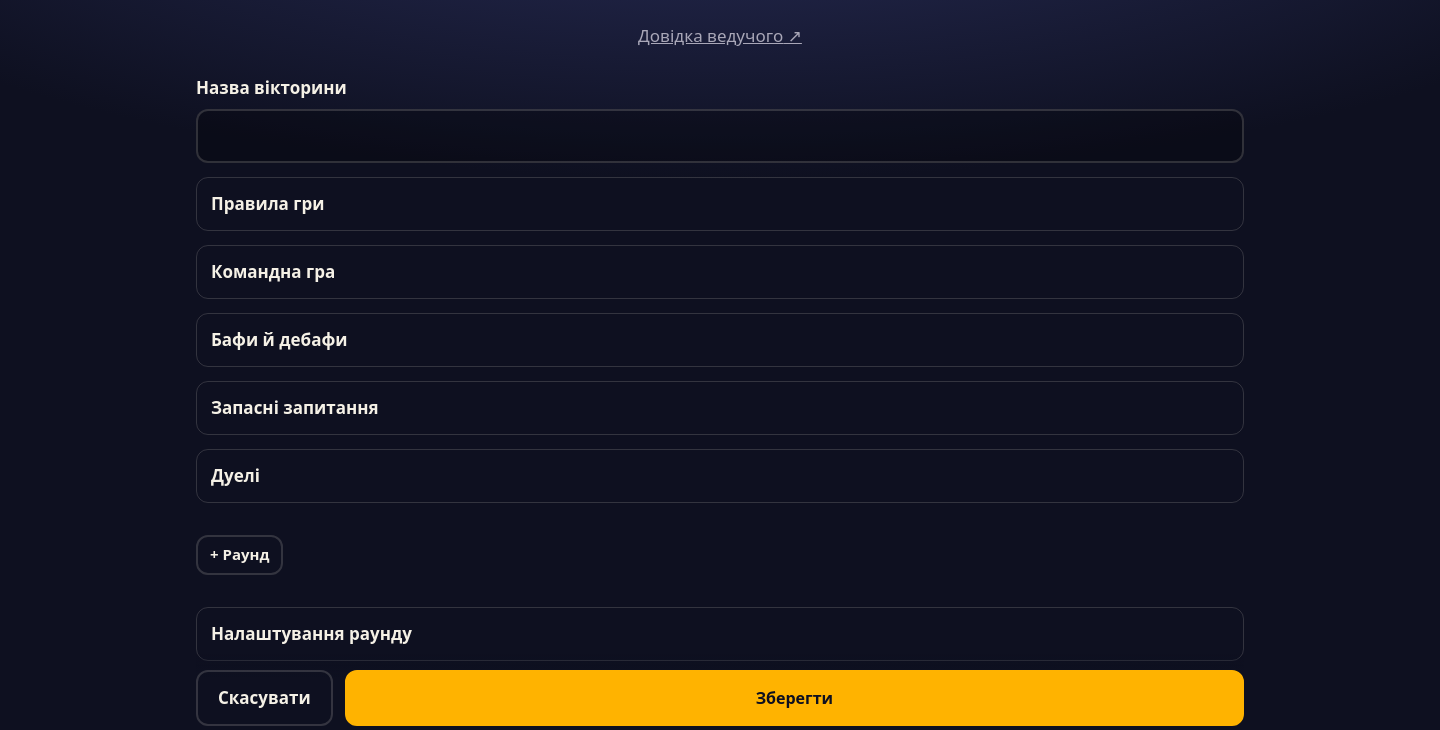
Test: QuizEditor › shows an error returned by the save
This screenshot has width=1440, height=730.
In the field labelled "Назва вікторини": (720, 136) [196,109,1244,163], type "Географія"
(page scrolled)
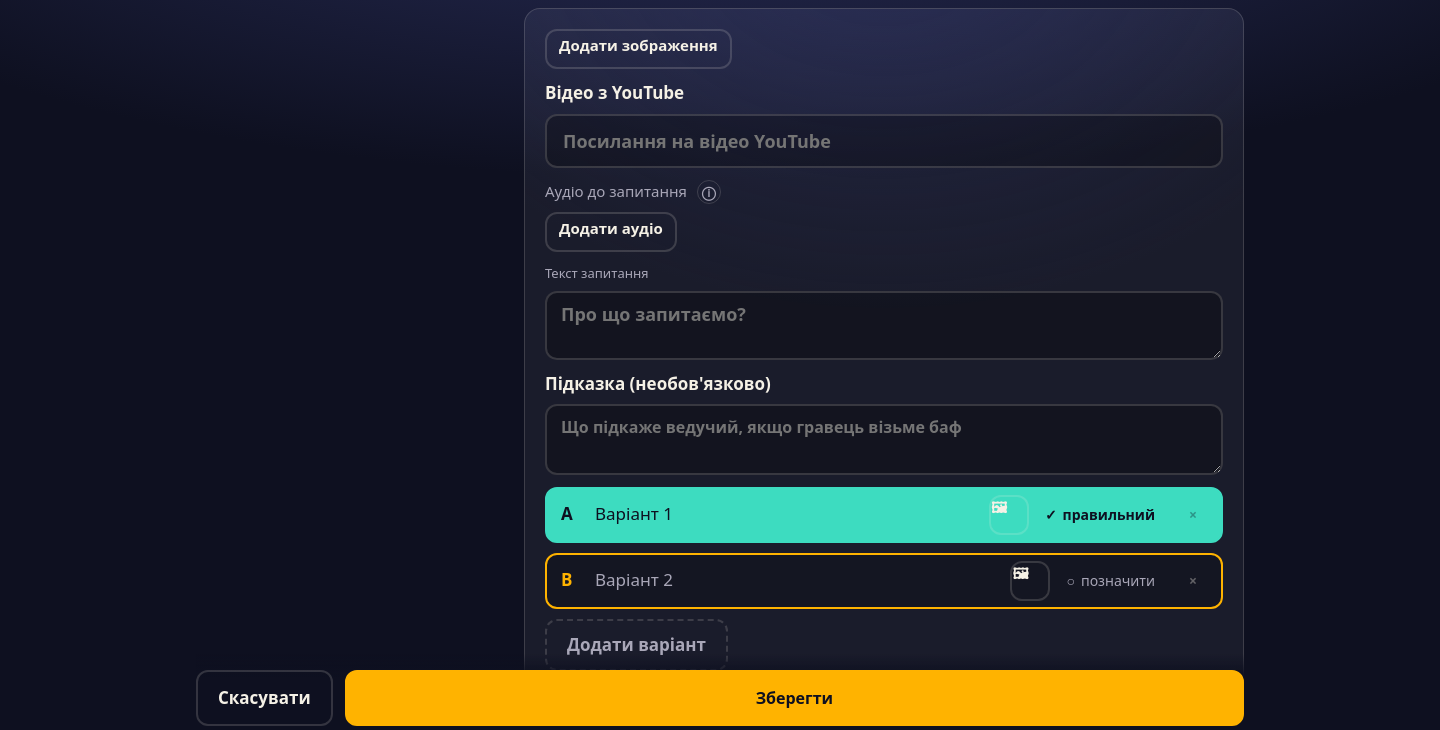
In the text box labelled "Текст запитання": (884, 325) [545,291,1223,360], type "Говерла найвища?"
(page scrolled)
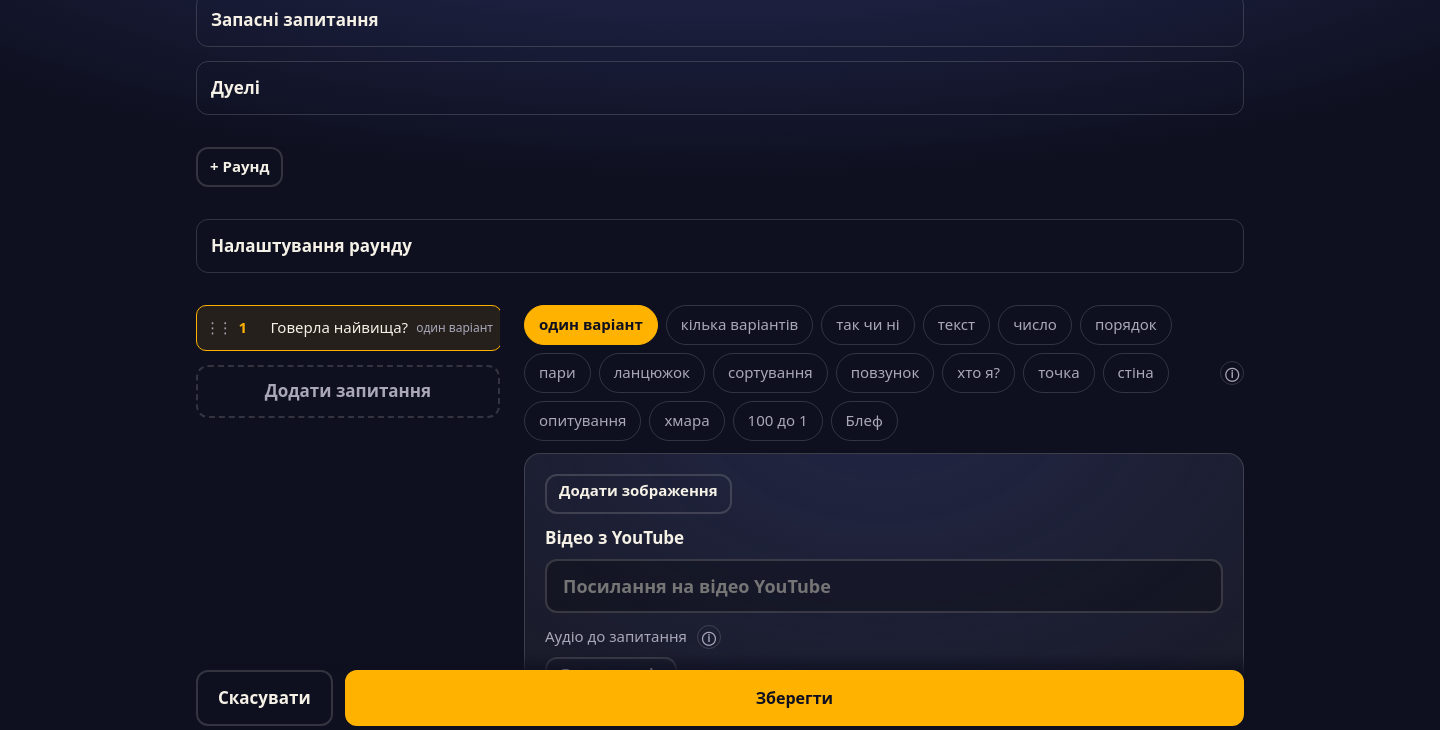
Click the button "так чи ні": (868, 325) [821,305,915,345]
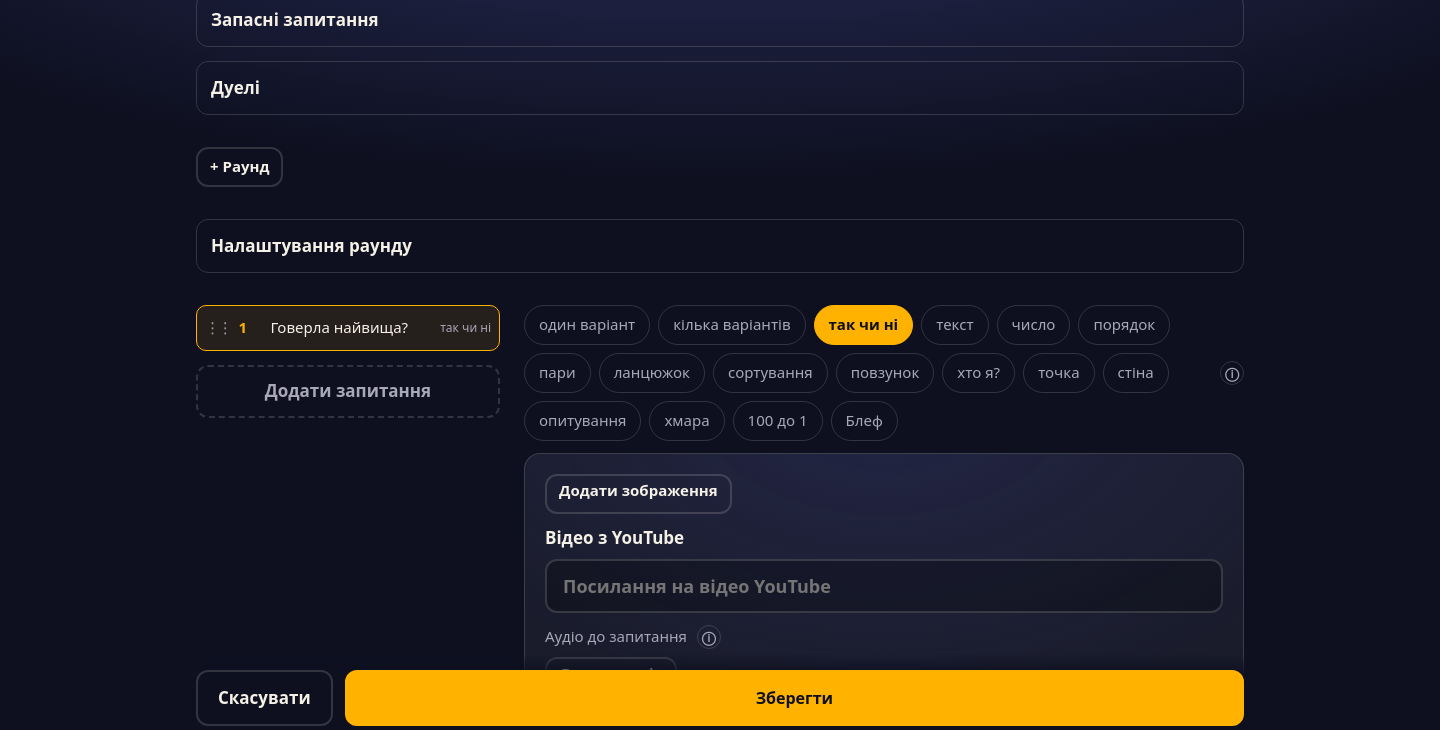
Click the button "Зберегти": (794, 698) [345,670,1244,726]
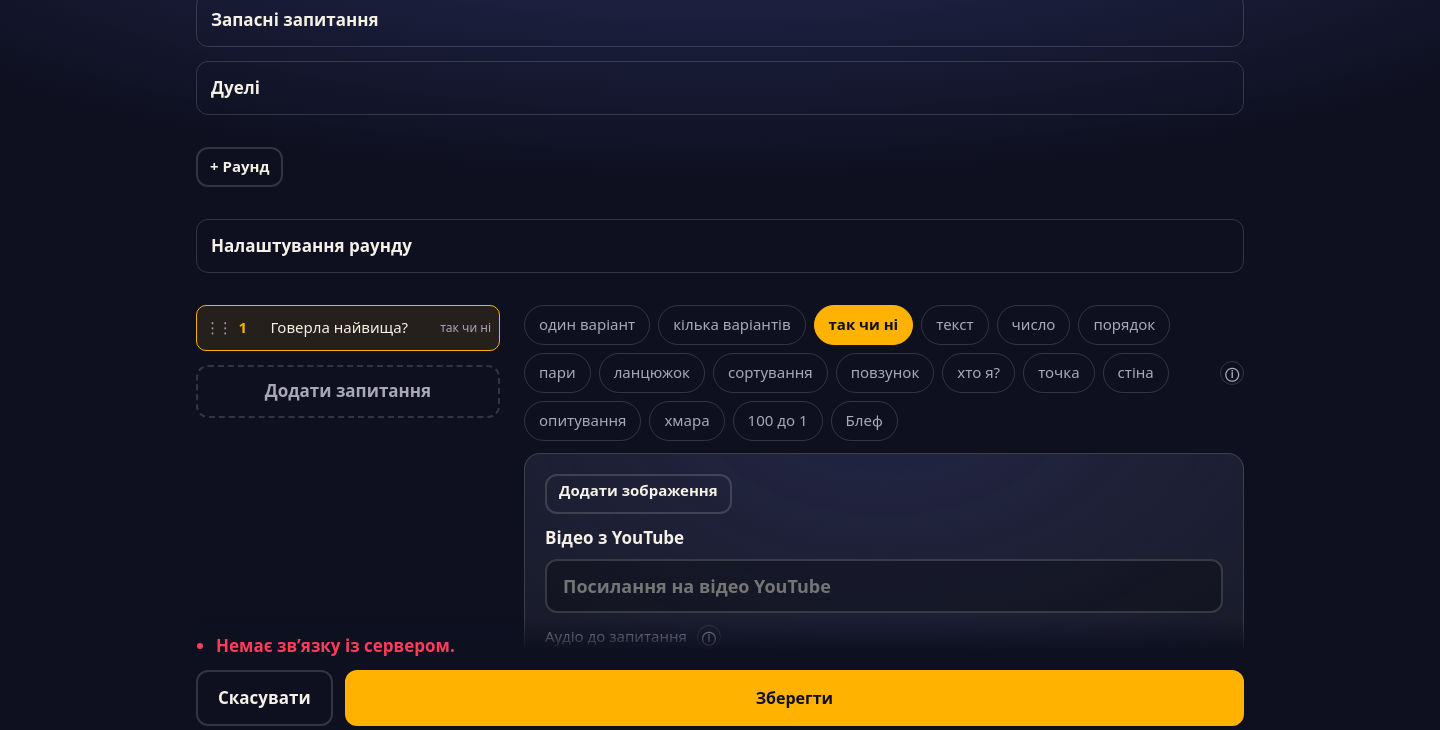
expect the message reads "Немає зв’язку із сервером.": met, box [216,633,455,656]
